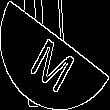M_NE: (28, 21, 82, 89)
